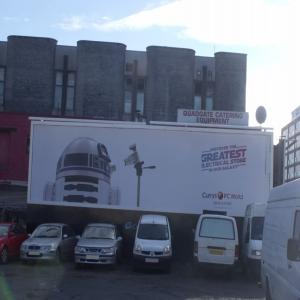Vehicle-registration-plate: (146, 259, 160, 265), (87, 256, 102, 260), (211, 252, 225, 256), (29, 252, 41, 256)
